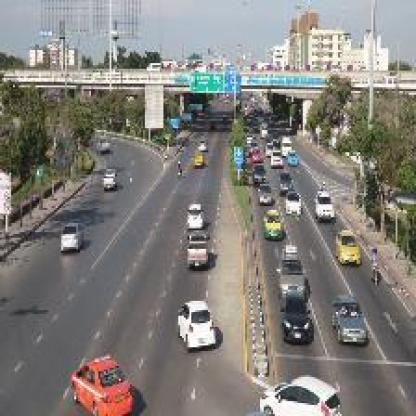other: (57, 351, 132, 409), (327, 226, 364, 265)
